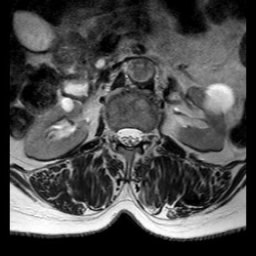CCS_normal: (125, 118, 133, 158)
LFS_normal: (142, 119, 149, 150)
LLS_normal: (133, 119, 142, 150)
RFS_normal: (108, 118, 117, 150)
RLS_normal: (117, 119, 125, 150)
